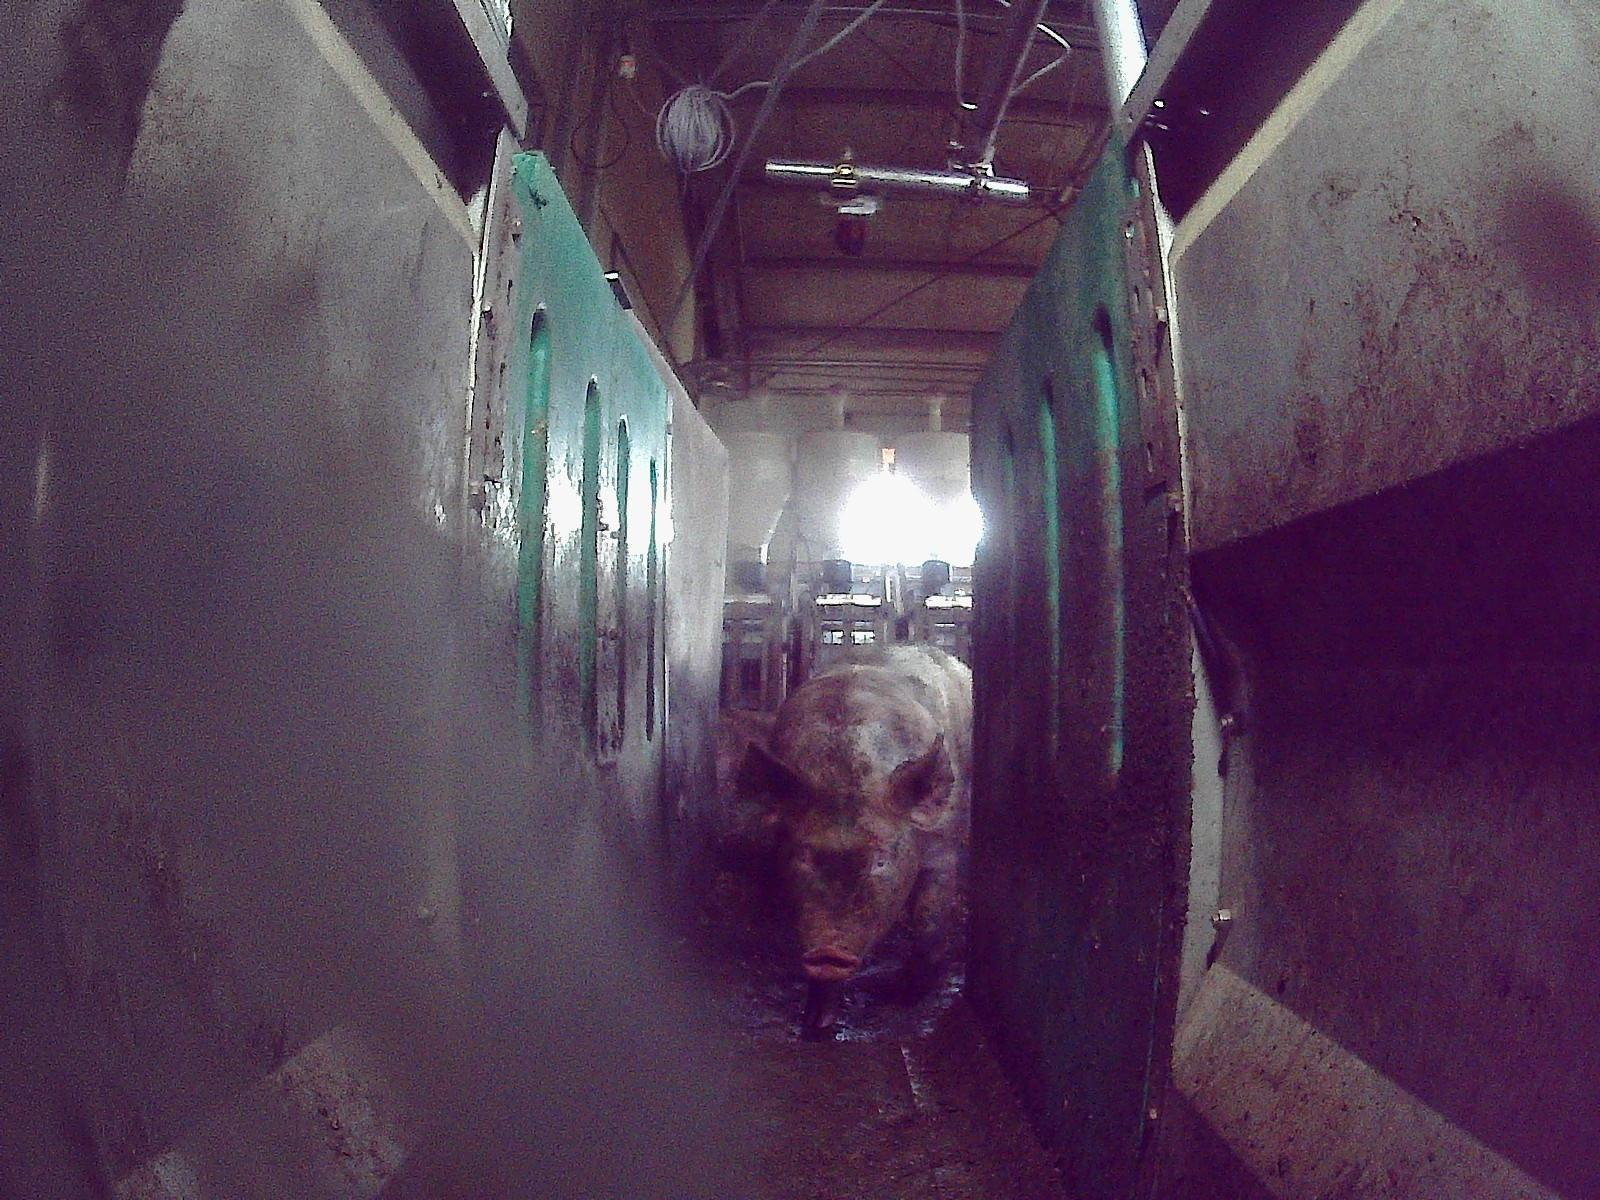Face: (770, 760, 925, 977)
